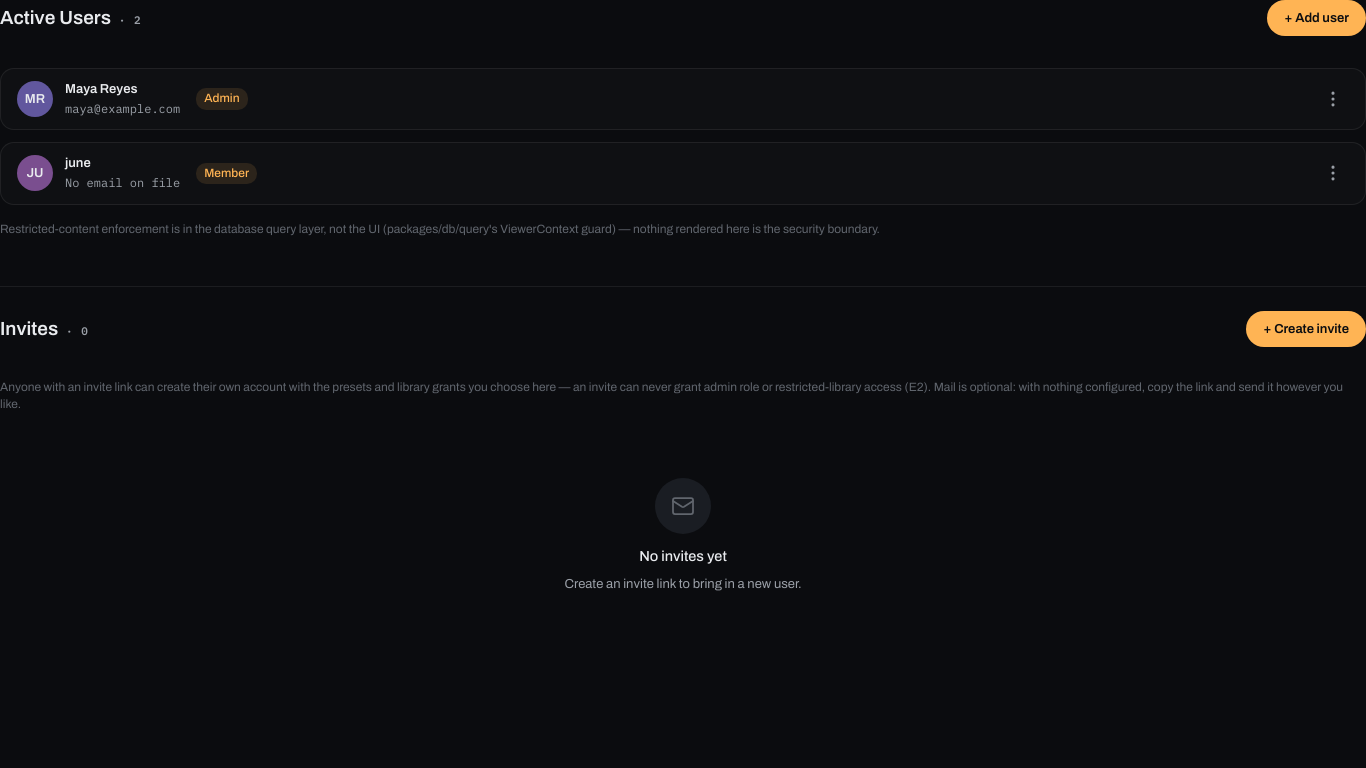
it: UsersSection — Lane D additions › the self-reset case is detected via GET /users/me — the admin's own row shows the self warning
This screenshot has width=1366, height=768.
Click the button named "Manage maya" at (1333, 99), box [1317,83,1349,115]
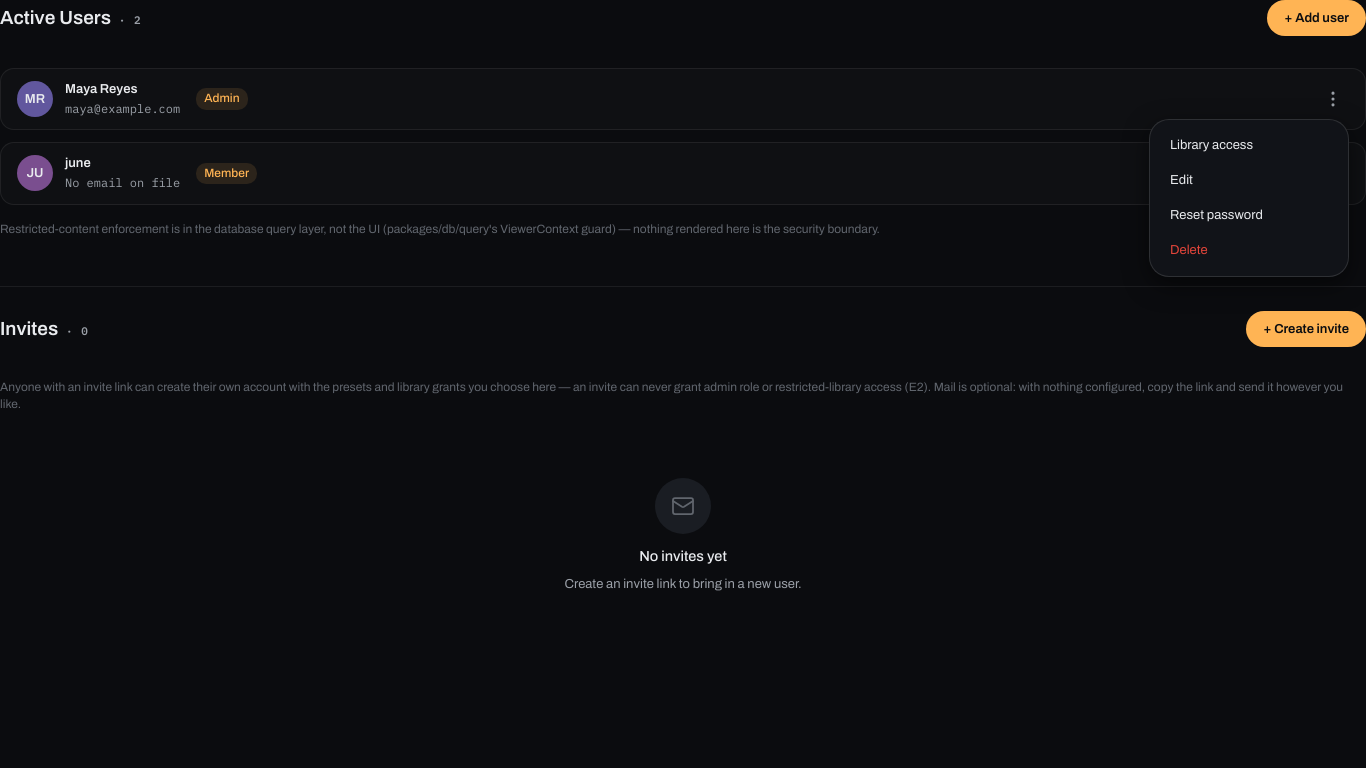
Click the menu item "Reset password" at (1249, 215), box [1158,198,1340,233]
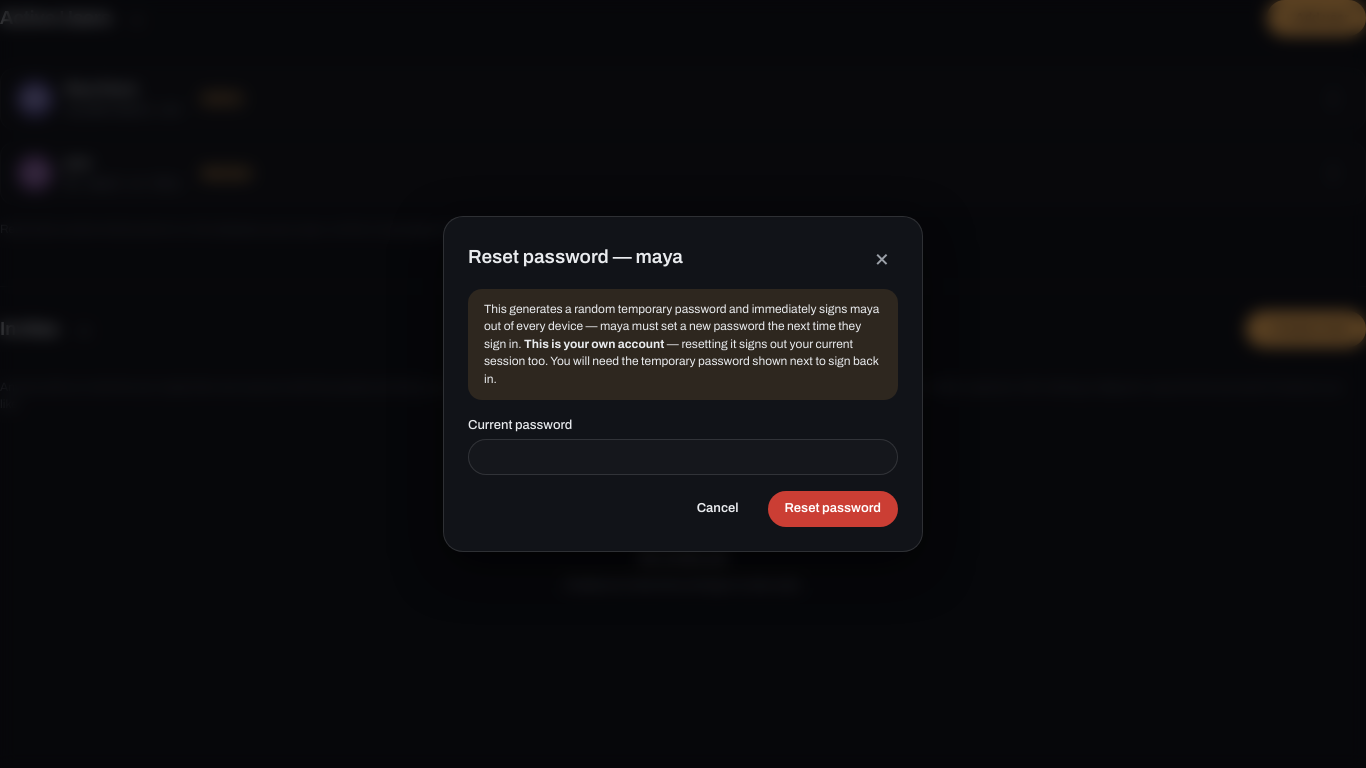
Check: the text "your own account" is shown, box [524,337,664,351]
